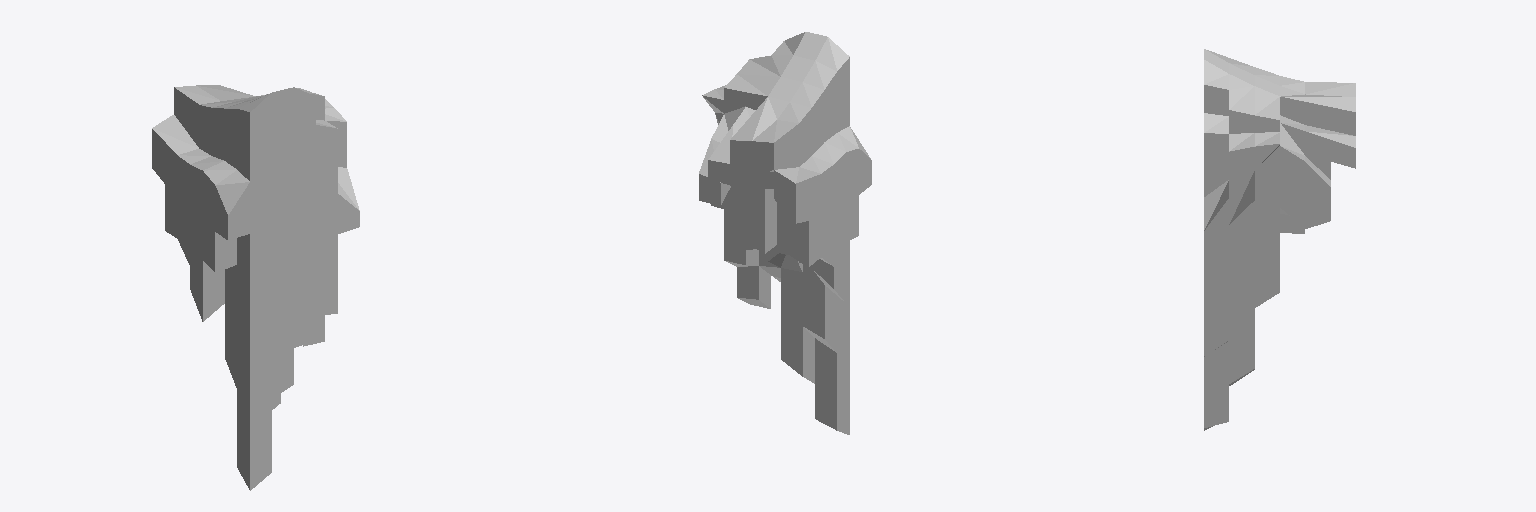
The model's file is Bot_Runner_LOD0-2.obj.
The picture shows the model from 3 angles: view 1: azimuth 30°, elevation 25°; view 2: azimuth 150°, elevation 25°; view 3: azimuth 270°, elevation 25°; orthographic projection.
Visible parts, largest first — view 1: Bot_Runner_LOD0-2; view 2: Bot_Runner_LOD0-2; view 3: Bot_Runner_LOD0-2.
Boxes of the visible parts, x1=… form: Bot_Runner_LOD0-2: x1=152, y1=85, x2=359, y2=490; Bot_Runner_LOD0-2: x1=699, y1=32, x2=871, y2=434; Bot_Runner_LOD0-2: x1=1204, y1=49, x2=1355, y2=430.
Bounding box in the file's own units: 0.6 × 1.71 × 0.6.